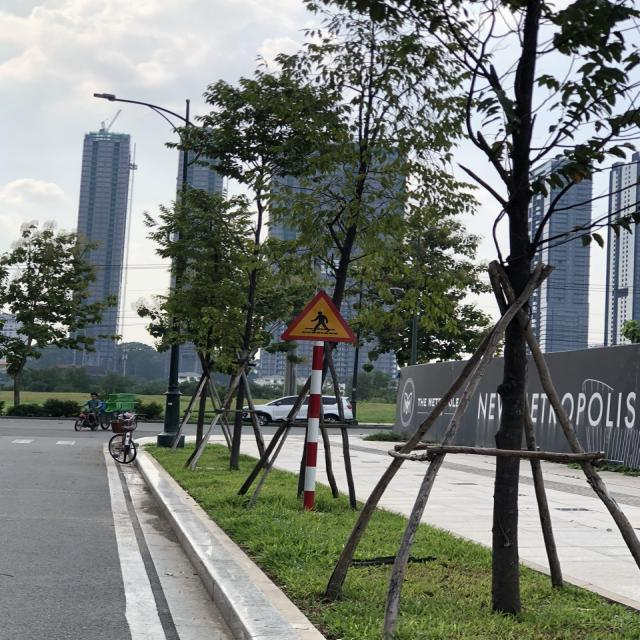Bien bao duong nguoi di bo cat ngang: (269, 284, 369, 347)
